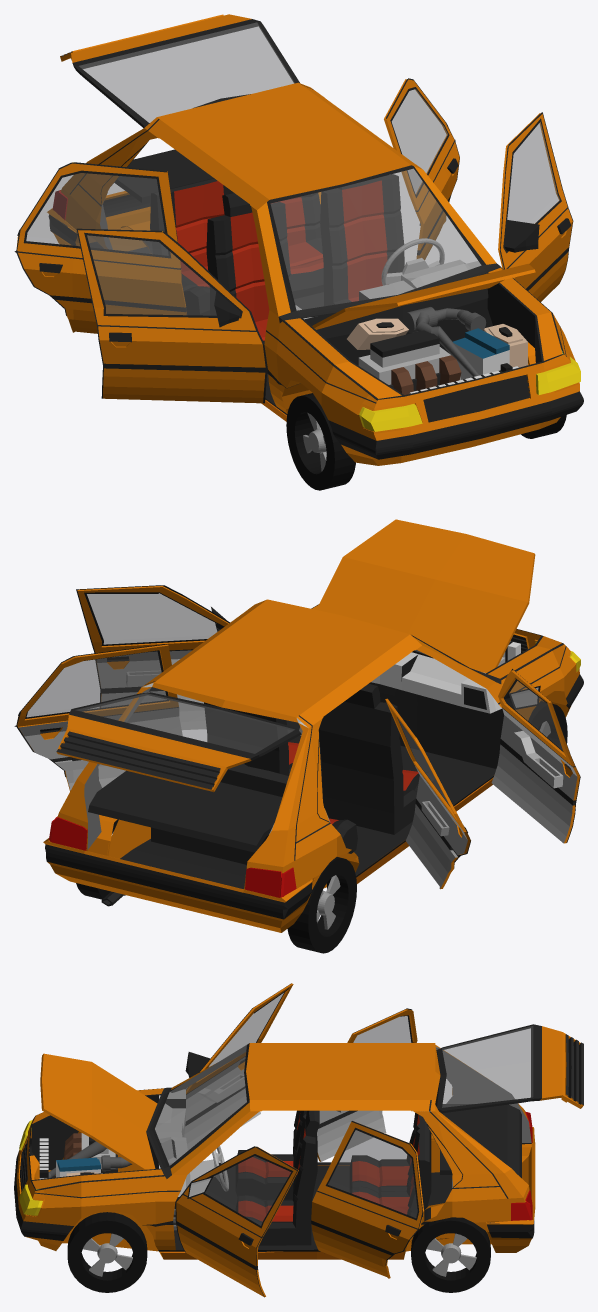
3 views of the same model, one above another, from view 1: azimuth 30°, elevation 25°; view 2: azimuth 150°, elevation 25°; view 3: azimuth 270°, elevation 25° (orthographic). The views are drawn at different scales.
Visible parts, largest first — view 1: 205_Material_0, Pare brise, Portes avant droite, Chaises avant, object 17, object 22, object 6, object 23, Vitres avant droite, Moteur, Portes avant gauche, object 8 (+8 smaller); view 2: 205_Material_0, Capot, Chaises avant, object 8, Planche coffre, Portes avant droite, Portes avant gauche, object 18, object 22, object 24, Vitres avant gauche, object 17 (+4 smaller); view 3: 205_Material_0, Capot, object 18, Portes avant gauche, Chaises avant, object 22, Pare brise, object 8, Portes avant droite, object 24, Pneu avant gauche, object 6 (+9 smaller).
Boxes of the visible parts, x1,y1,x2,y2 form: 205_Material_0: [47, 82, 583, 465]; Pare brise: [270, 168, 481, 310]; Portes avant droite: [76, 228, 267, 403]; Chaises avant: [206, 174, 404, 373]; object 17: [14, 162, 186, 333]; object 22: [79, 22, 294, 122]; object 6: [150, 178, 323, 315]; object 23: [26, 173, 168, 255]; Vitres avant droite: [87, 235, 216, 315]; Moteur: [347, 318, 527, 394]; Portes avant gauche: [498, 112, 573, 301]; object 8: [60, 14, 299, 128]; 205_Material_0: [43, 599, 583, 932]; Capot: [316, 519, 535, 672]; Chaises avant: [204, 683, 440, 834]; object 8: [56, 692, 301, 792]; Planche coffre: [88, 770, 282, 852]; Portes avant droite: [491, 669, 580, 843]; Portes avant gauche: [76, 585, 229, 730]; object 18: [14, 644, 182, 791]; object 22: [76, 693, 294, 753]; object 24: [26, 651, 166, 717]; Vitres avant gauche: [87, 593, 217, 644]; object 17: [385, 698, 470, 889]; 205_Material_0: [14, 1043, 535, 1259]; Capot: [40, 1053, 157, 1169]; object 18: [311, 1121, 423, 1278]; Portes avant gauche: [175, 1146, 298, 1297]; Chaises avant: [235, 1110, 319, 1245]; object 22: [442, 1026, 533, 1107]; Pare brise: [155, 1045, 246, 1165]; object 8: [435, 1024, 583, 1113]; Portes avant droite: [184, 983, 293, 1150]; object 24: [328, 1130, 417, 1217]; Pneu avant gauche: [67, 1212, 147, 1292]; object 6: [349, 1113, 431, 1217].
Size of the model in its own units: 2.16 by 0.9692 by 2.71.
Materials: 3 (1 with a texture image).
